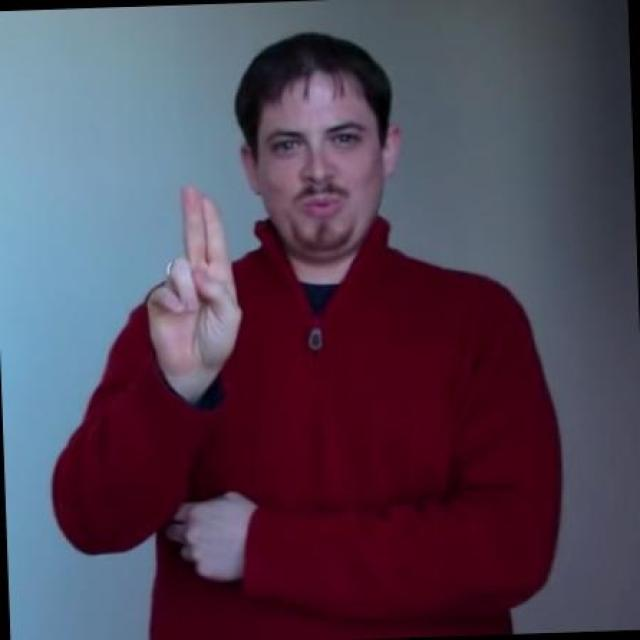U: (143, 180, 247, 372)
